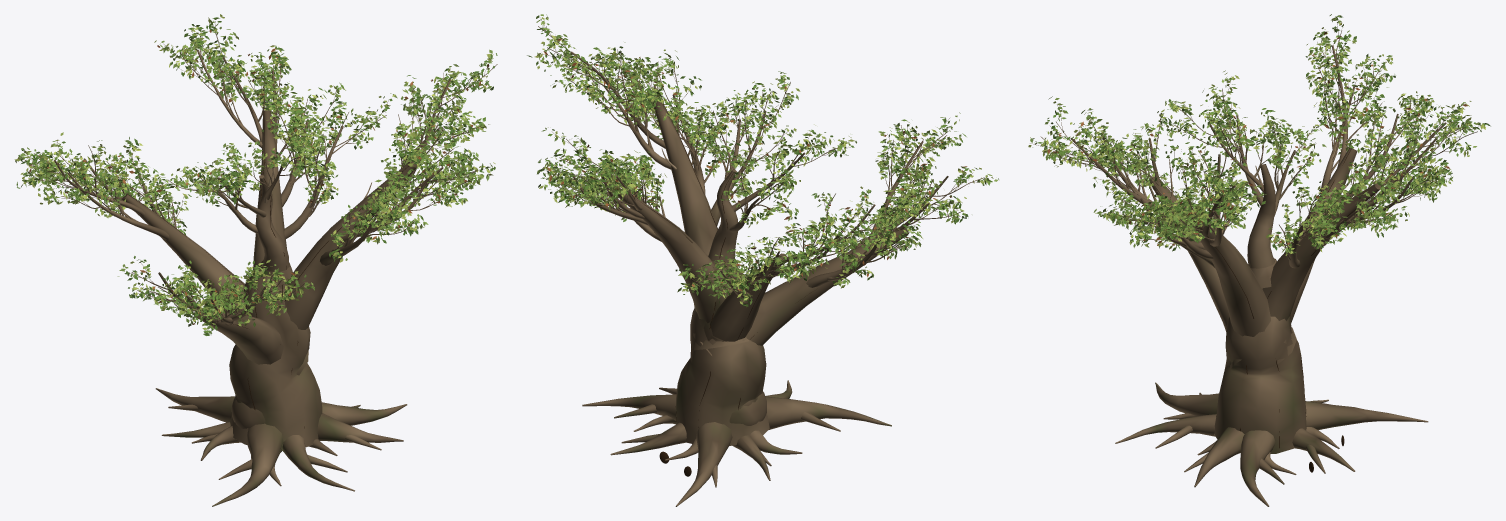
File: ancient_tree_07_lod1.glb
The picture shows the model from 3 angles, left to right: view 1: azimuth 30°, elevation 25°; view 2: azimuth 150°, elevation 25°; view 3: azimuth 270°, elevation 25°; orthographic projection.
Parts seen in each view (by area): view 1: AncientTreeWood_LOD1, AncientLeaves_LOD1, FineBranches_LOD1; view 2: AncientTreeWood_LOD1, AncientLeaves_LOD1, FineBranches_LOD1; view 3: AncientTreeWood_LOD1, AncientLeaves_LOD1, FineBranches_LOD1.
Boxes of the visible parts, left/top/right/bottom form: AncientTreeWood_LOD1: left=25, top=25, right=497, bottom=506; AncientLeaves_LOD1: left=14, top=14, right=497, bottom=335; FineBranches_LOD1: left=20, top=19, right=493, bottom=329; AncientTreeWood_LOD1: left=538, top=26, right=984, bottom=506; AncientLeaves_LOD1: left=527, top=14, right=998, bottom=307; FineBranches_LOD1: left=539, top=19, right=989, bottom=301; AncientTreeWood_LOD1: left=1040, top=30, right=1477, bottom=506; AncientLeaves_LOD1: left=1028, top=14, right=1490, bottom=255; FineBranches_LOD1: left=1030, top=19, right=1480, bottom=253.
Bounding box in the file's own units: 23.75 × 19.79 × 22.13.
